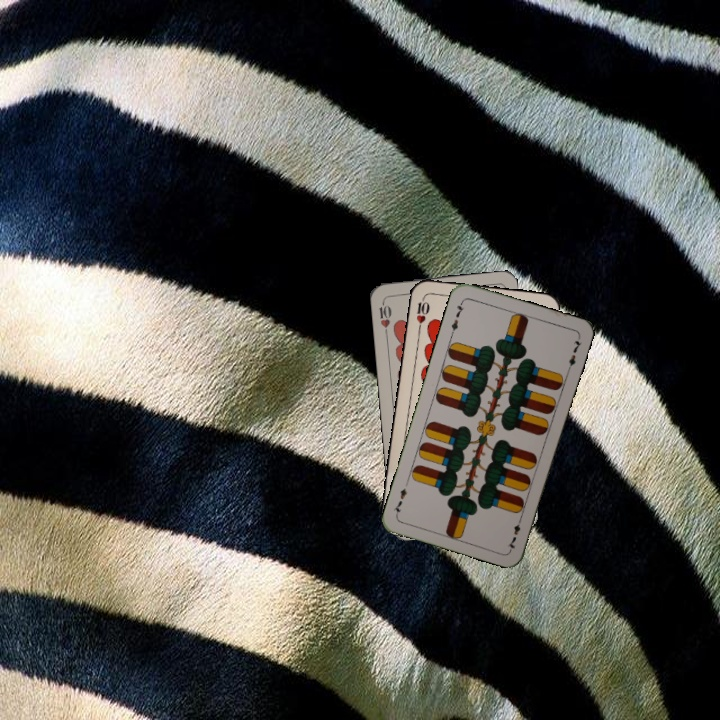E7: (504, 512, 525, 552), (447, 297, 467, 337)
H10: (374, 296, 394, 337), (412, 292, 432, 332)
